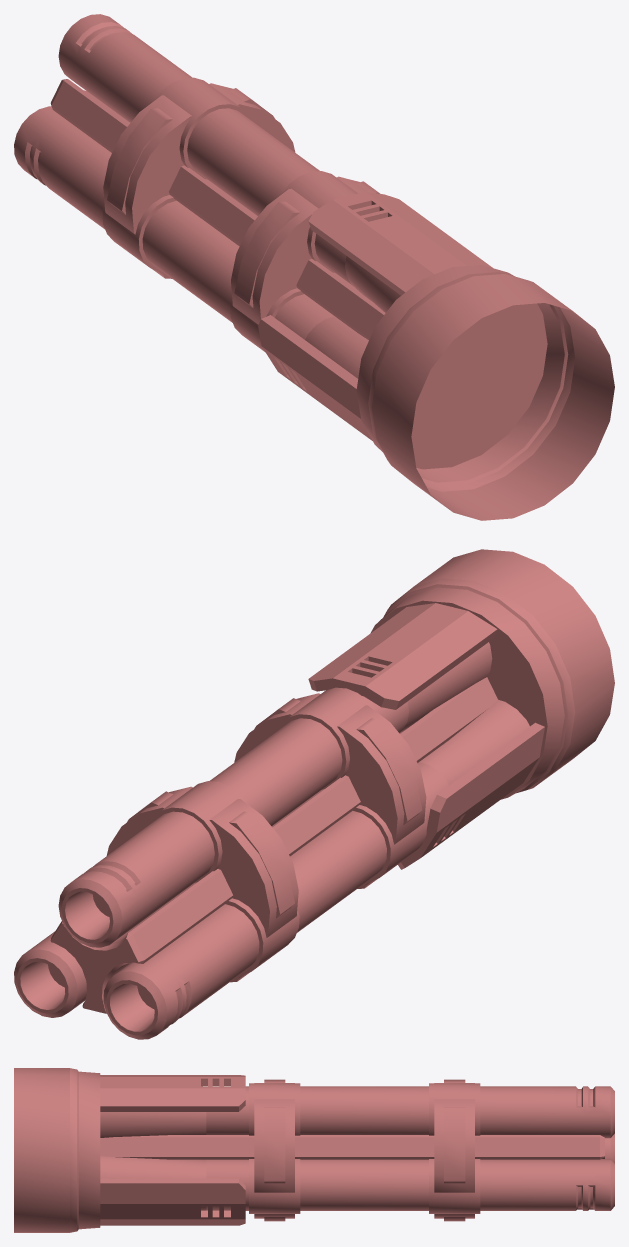
File: hbr_right_torso_uac5_bh1.dae
3 renders of one model, top to bottom at view 1: azimuth 30°, elevation 25°; view 2: azimuth 150°, elevation 25°; view 3: azimuth 270°, elevation 25°, orthographic. The views are drawn at different scales.
Visible parts, largest first — view 1: barrel022, hbr_right_torso_uac5_bh1; view 2: barrel022, hbr_right_torso_uac5_bh1; view 3: barrel022, hbr_right_torso_uac5_bh1.
Part boxes in pixels (x1,y1,x2,y2): barrel022: (14,14,400,378); hbr_right_torso_uac5_bh1: (258,192,614,520); barrel022: (14,606,531,1039); hbr_right_torso_uac5_bh1: (308,549,614,869); barrel022: (100,1079,614,1221); hbr_right_torso_uac5_bh1: (14,1068,245,1232).
Size of the model in its own units: 0.6695 by 2.42 by 0.6695.
